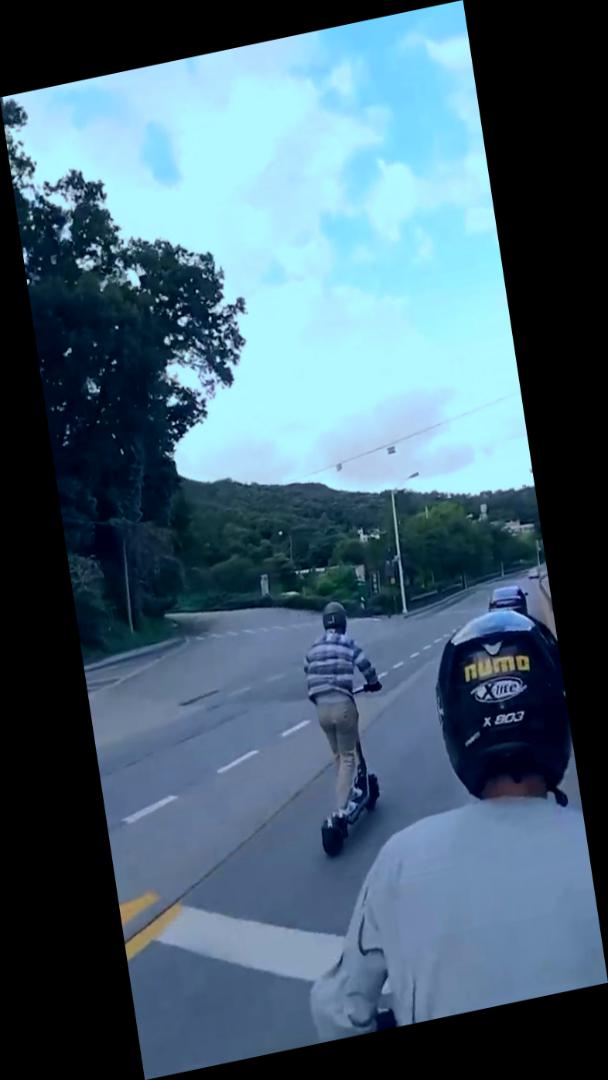helmet: (276, 587, 415, 870)
